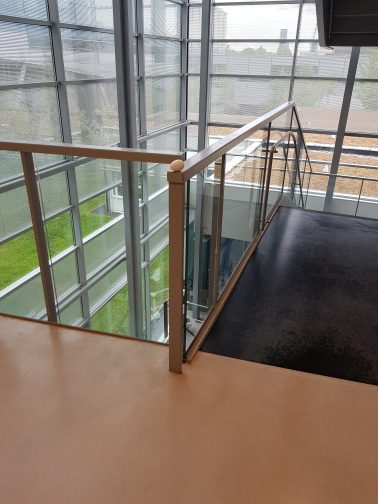egg: (169, 159, 187, 173)
